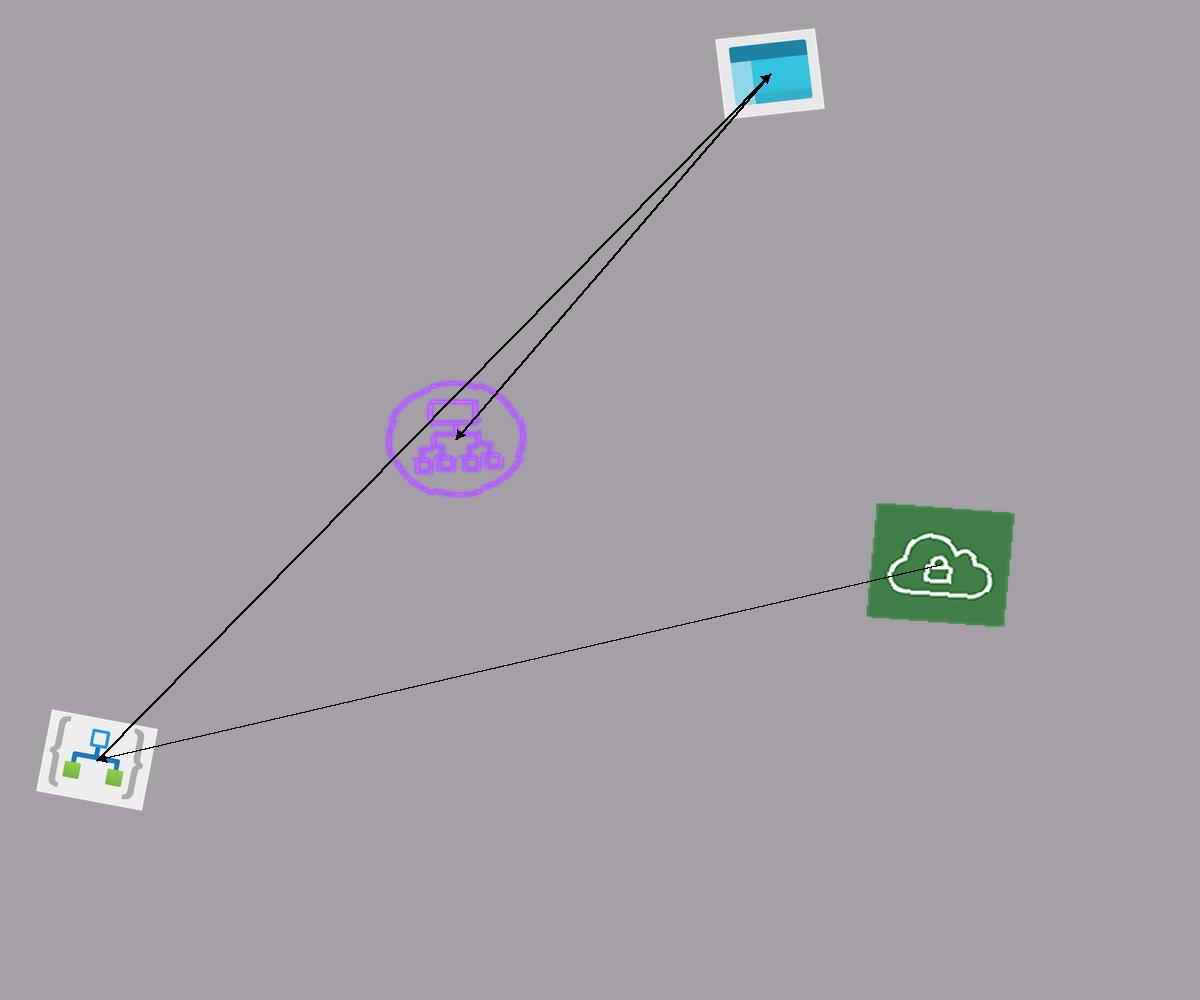AWS-Private_vpc: (865, 502, 1016, 628)
AWS-Res_Elastic-Load-Balancing_Application-Load-Balancer: (373, 370, 539, 508)
Azure_integration-204-Logic-Apps: (36, 709, 158, 811)
Azure_management-portal: (715, 28, 825, 120)
